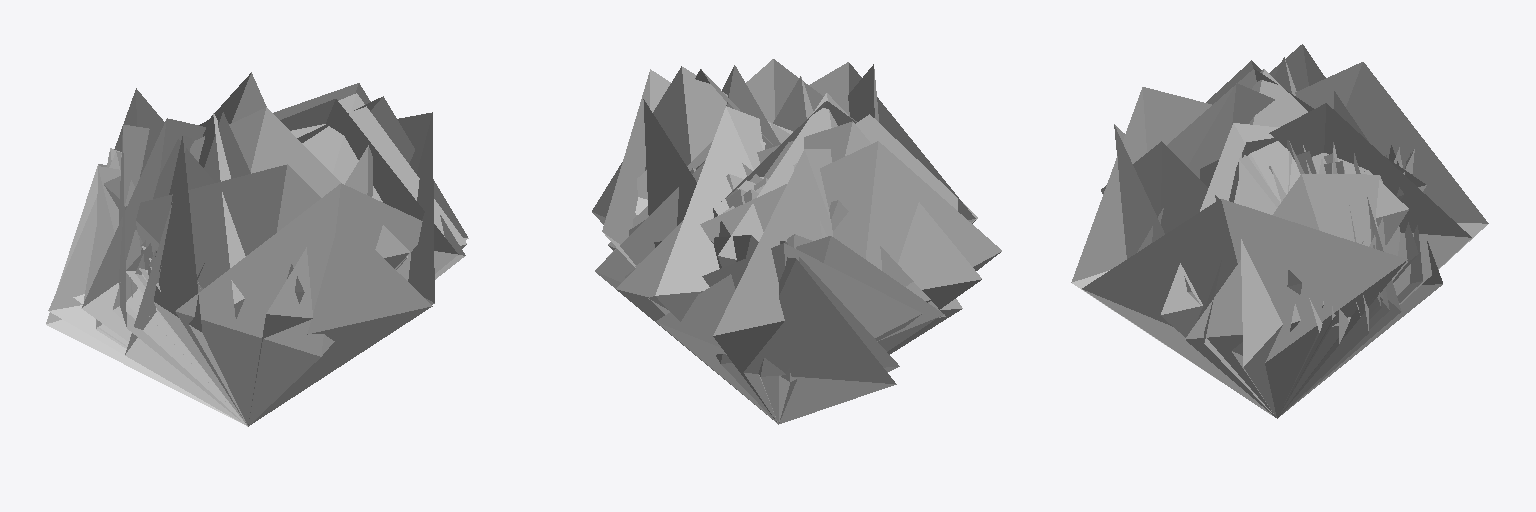
File: bush.obj
3 renders of one model, left to right at view 1: azimuth 30°, elevation 25°; view 2: azimuth 150°, elevation 25°; view 3: azimuth 270°, elevation 25°, orthographic.
Visible parts, largest first — view 1: bush_Buisson_02_Atlas; view 2: bush_Buisson_02_Atlas; view 3: bush_Buisson_02_Atlas.
Part boxes in pixels (x1,y1,x2,y2): bush_Buisson_02_Atlas: (46,72,468,426); bush_Buisson_02_Atlas: (592,59,1001,424); bush_Buisson_02_Atlas: (1071,44,1488,418).
Bounding box in the file's own units: 1.85 × 1.52 × 1.72.